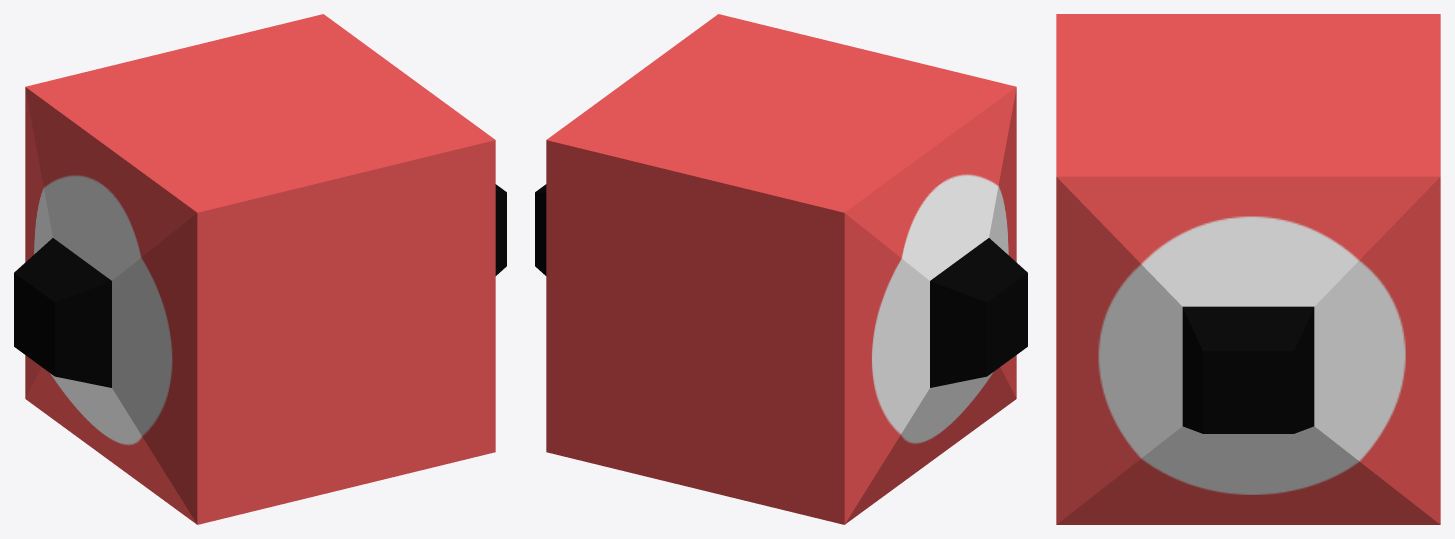
File: enemy.obj
3 renders of one model, left to right at view 1: azimuth 30°, elevation 25°; view 2: azimuth 150°, elevation 25°; view 3: azimuth 270°, elevation 25°, orthographic. The views are drawn at different scales.
Parts seen in each view (by area): view 1: Cube; view 2: Cube; view 3: Cube.
Part boxes in pixels (bbox=[...]): Cube: bbox=[14, 14, 506, 524]; Cube: bbox=[535, 14, 1027, 524]; Cube: bbox=[1056, 14, 1440, 524].
Size of the model in its own units: 3.03 by 2 by 2.
